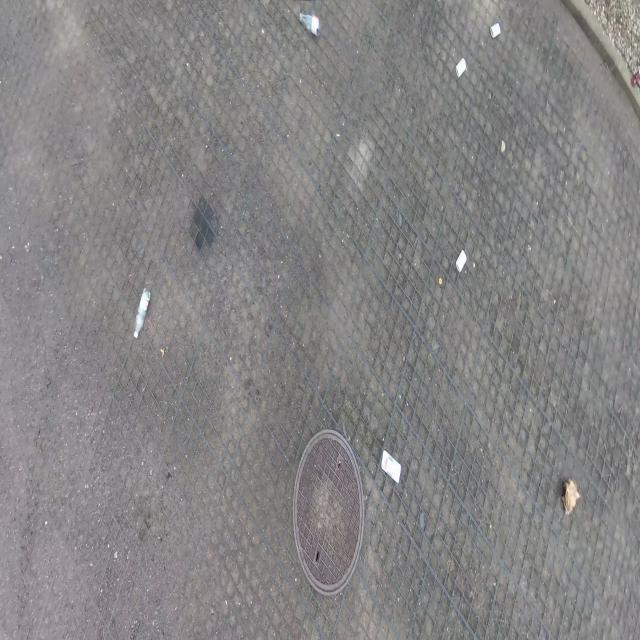rubbish: (133, 289, 151, 339), (560, 480, 580, 517), (381, 449, 401, 485), (299, 11, 321, 37), (456, 250, 467, 272), (456, 58, 466, 77), (490, 22, 501, 39), (439, 278, 441, 283)
